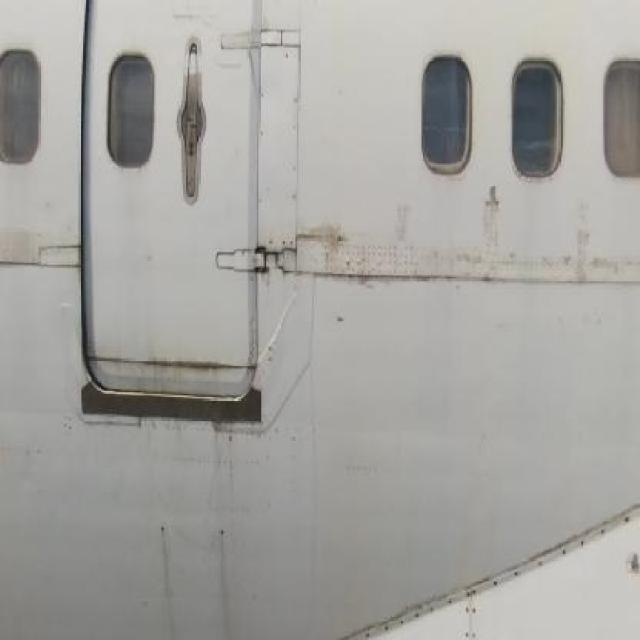Missing-Rivet: (415, 509, 597, 618)
Rust: (140, 339, 234, 384), (149, 514, 182, 632), (298, 207, 351, 276), (208, 522, 238, 638)
Scartch: (572, 212, 626, 286), (377, 172, 415, 248), (482, 178, 507, 260)
